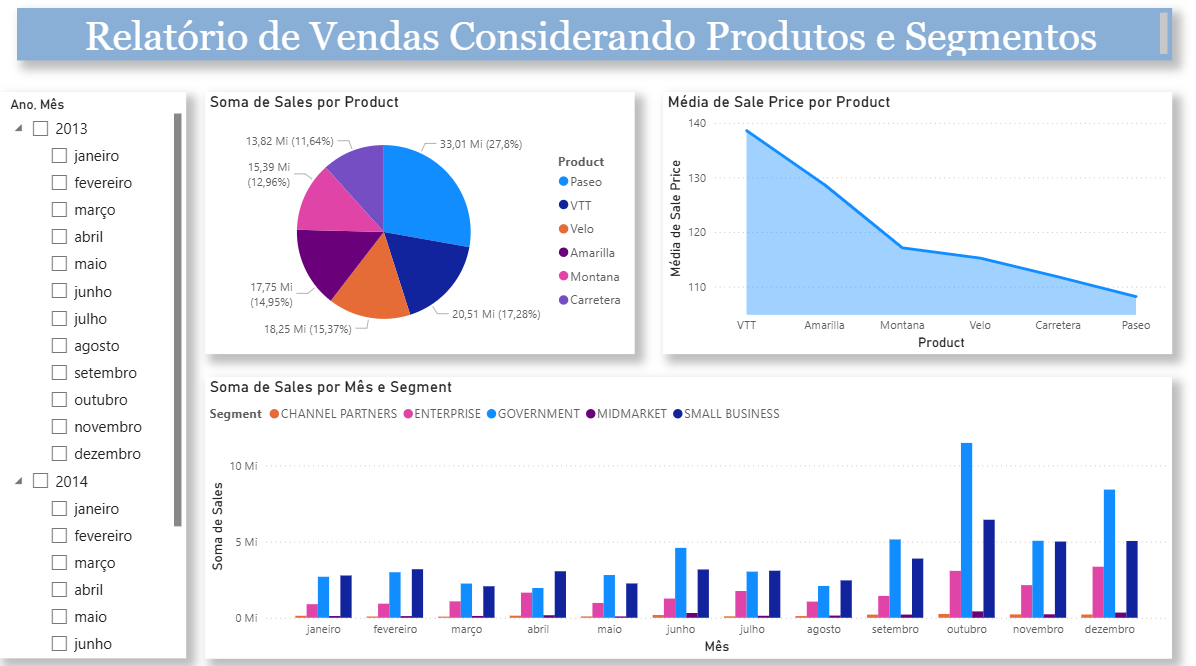

This screenshot's page, from the dashboard's own definition file:
{"tool":"powerbi","page":{"name":"Página 1","canvas":[1280,720],"ordinal":0},"visuals":[{"type":"pieChart","fields":{"Category":["financials.Product"],"Y":["Sum(financials. Sales)"]},"box":[221.3,103.8,459,280],"z":0},{"type":"areaChart","fields":{"Category":["financials.Product"],"Y":["Avg(financials.Sale Price)"]},"box":[710.4,103.8,543.7,280],"z":1000},{"type":"clusteredColumnChart","fields":{"Category":["financials.Date.Variation.Hierarquia de datas.Ano","financials.Date.Variation.Hierarquia de datas.Mês"],"Y":["Sum(financials. Sales)","select"],"Series":["financials.Segment"]},"box":[221.3,408.5,1032.7,300.5],"z":2000},{"type":"slicer","fields":{"Values":["financials.Date.Variation.Hierarquia de datas.Ano","financials.Date.Variation.Hierarquia de datas.Mês"]},"box":[0,103.8,200.8,605.2],"z":3000},{"type":"textbox","box":[20.5,13.7,1233.6,56],"z":4001}]}

Visuals, with their boxes in screenshot pixels (x1, y1, x2, y2), scaled from the page's 1280x720 canvas onto the 1196x666 screenshot:
pieChart - financials.Product x Sum(financials. Sales): {"x1": 207, "y1": 96, "x2": 636, "y2": 355}
areaChart - financials.Product x Avg(financials.Sale Price): {"x1": 664, "y1": 96, "x2": 1172, "y2": 355}
clusteredColumnChart - financials.Date.Variation.Hierarquia de datas.Ano x financials.Date.Variation.Hierarquia de datas.Mês: {"x1": 207, "y1": 378, "x2": 1172, "y2": 656}
slicer - financials.Date.Variation.Hierarquia de datas.Ano x financials.Date.Variation.Hierarquia de datas.Mês: {"x1": 0, "y1": 96, "x2": 188, "y2": 656}
textbox: {"x1": 19, "y1": 13, "x2": 1172, "y2": 64}
